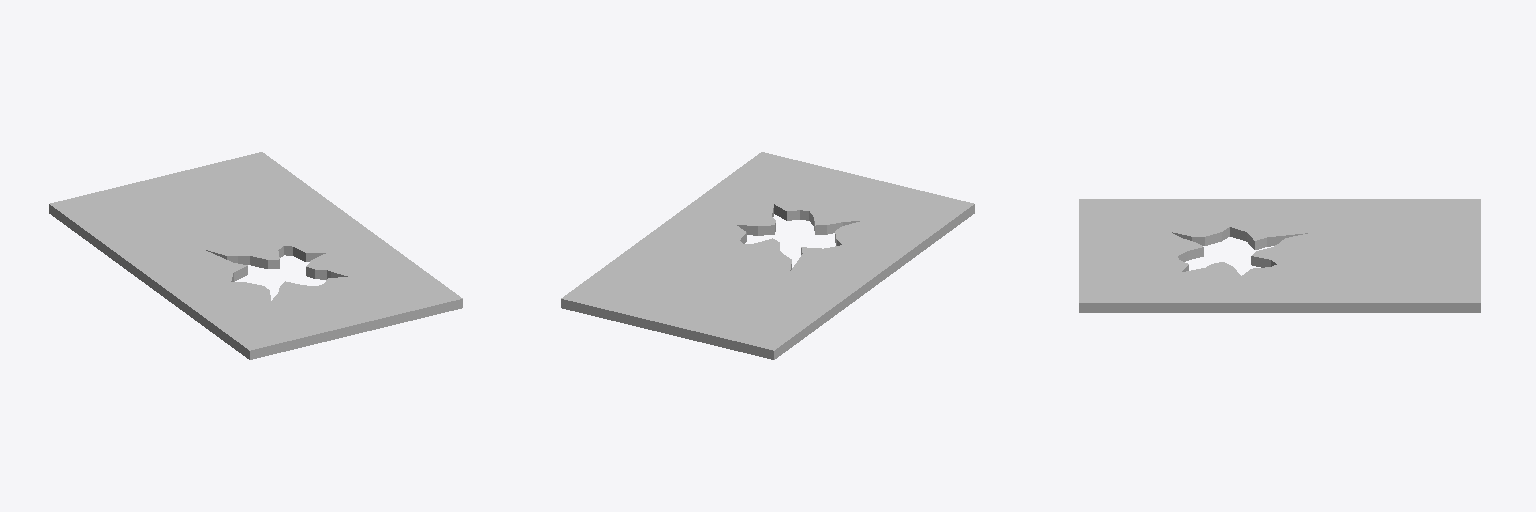
Rendered from floorHole.obj.
3 renders of one model, left to right at view 1: azimuth 30°, elevation 25°; view 2: azimuth 150°, elevation 25°; view 3: azimuth 270°, elevation 25°, orthographic.
Visible parts, largest first — view 1: Cube; view 2: Cube; view 3: Cube.
Part boxes in pixels (x1,y1,x2,y2): Cube: (49,152,462,359); Cube: (561,152,974,359); Cube: (1079,199,1480,312).
Size of the model in its own units: 9.32 by 0.3977 by 15.2.